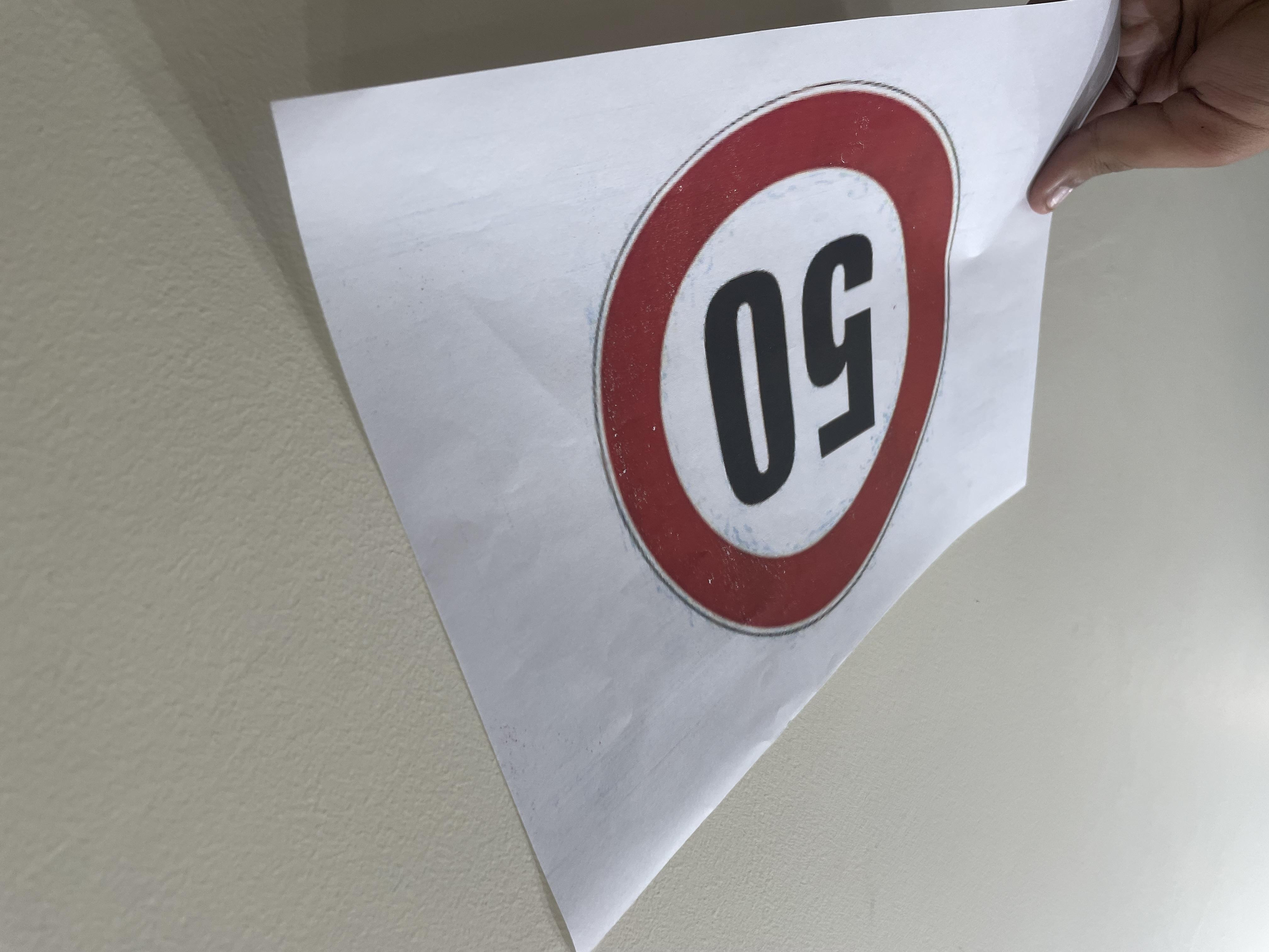50-Speed: (304, 310, 681, 875)
